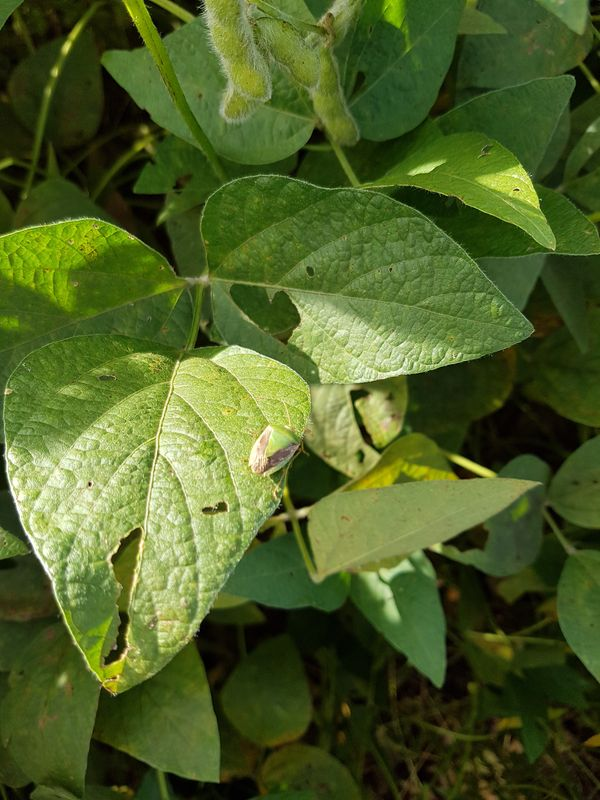Edessa_meditabunda: (241, 417, 312, 486)
